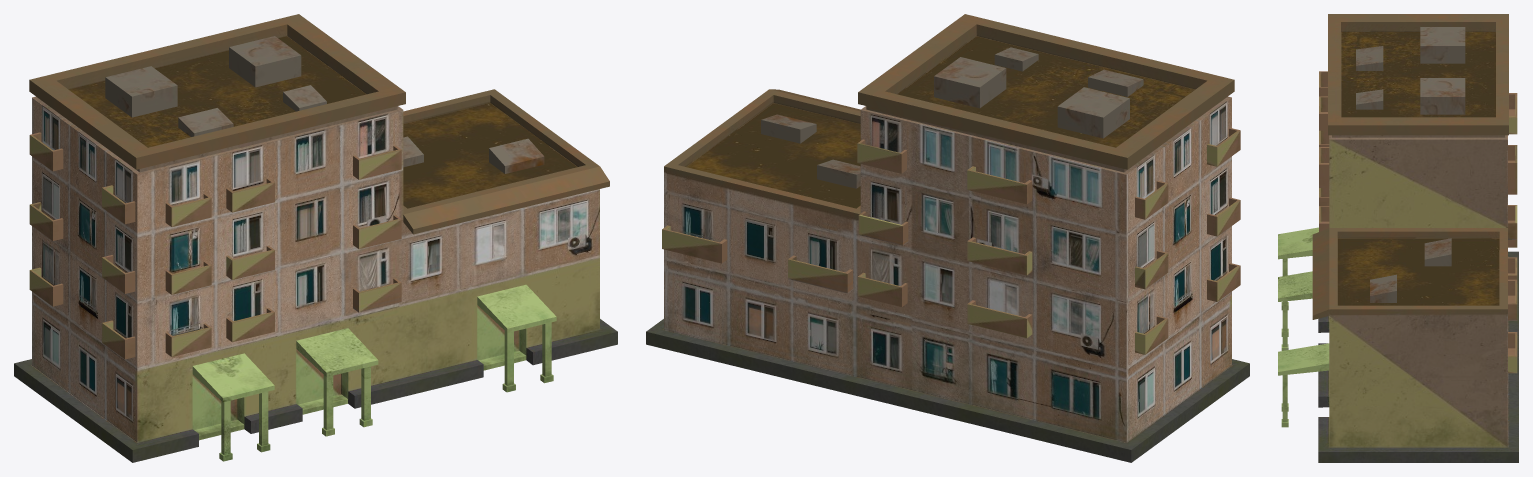
Rendered from house4_default.fbx.
3 views of the same model, side by side, from view 1: azimuth 30°, elevation 25°; view 2: azimuth 150°, elevation 25°; view 3: azimuth 270°, elevation 25° (orthographic). The views are drawn at different scales.
Visible parts, largest first — view 1: polySurface136; view 2: polySurface136; view 3: polySurface136.
Part boxes in pixels (x1=…): polySurface136: x1=14, y1=14, x2=617, y2=462; polySurface136: x1=646, y1=14, x2=1249, y2=462; polySurface136: x1=1278, y1=14, x2=1518, y2=462.
Size of the model in its own units: 1865 by 1129 by 947.
Materials: 1 (1 with a texture image).
